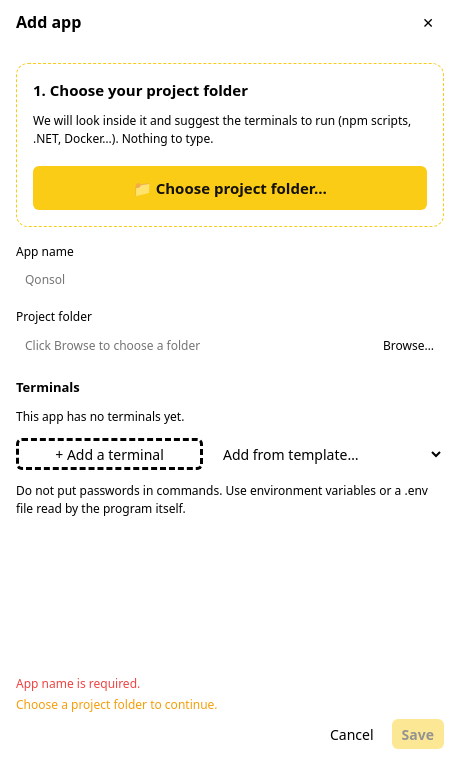
EditPane: novice flow (pickers, detection, autocomplete) › does not duplicate on a second detect and numbers repeated names
Click the button "📁 Choose project folder…" at (230, 188), box [33, 166, 427, 210]
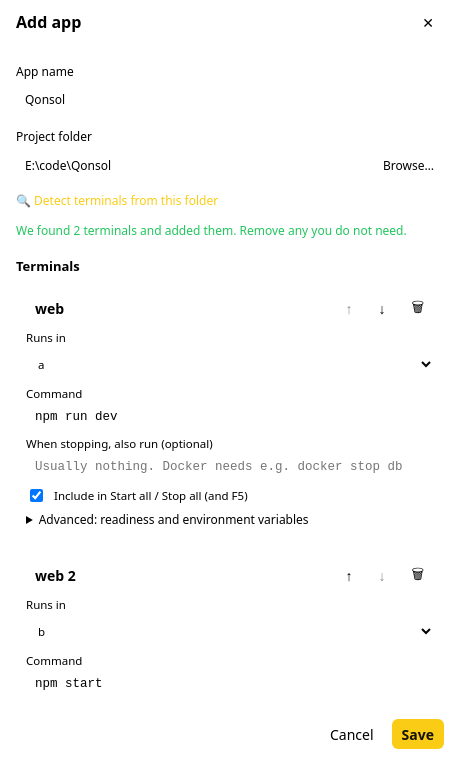
Expected: the field named "Terminal 1 name" holds "web", [26, 293, 329, 324]
Expected: the field named "Terminal 2 name" holds "web 2", [26, 560, 329, 591]
Click the button "🔍 Detect terminals from this folder" at (117, 200), box [16, 185, 218, 215]
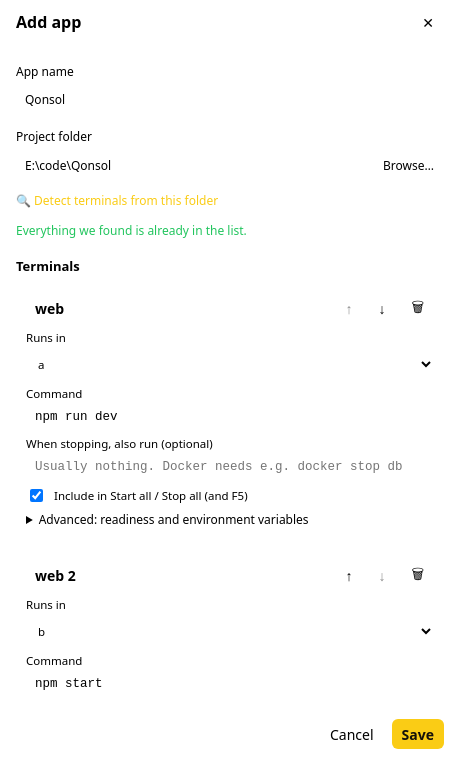
Expected: the text "Everything we found is already in the list." is shown, [16, 222, 247, 239]
